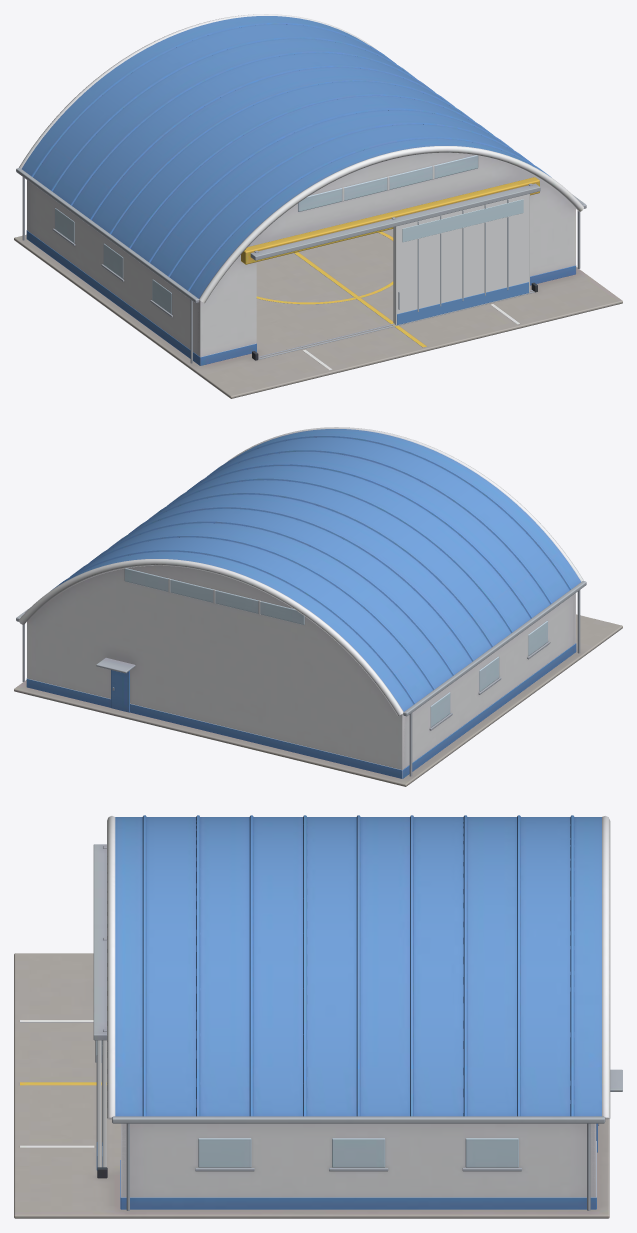
File: airfield_hangar.glb
3 renders of one model, top to bottom at view 1: azimuth 30°, elevation 25°; view 2: azimuth 150°, elevation 25°; view 3: azimuth 270°, elevation 25°, orthographic. The views are drawn at different scales.
Visible parts, largest first — view 1: hangar_body, hangar_door_outer; view 2: hangar_body; view 3: hangar_body, hangar_door_outer, hangar_door_inner.
Part boxes in pixels (bbox=[...]): hangar_body: bbox=[14, 14, 622, 398]; hangar_door_outer: bbox=[394, 194, 529, 325]; hangar_body: bbox=[14, 427, 622, 786]; hangar_body: bbox=[14, 815, 622, 1218]; hangar_door_outer: bbox=[95, 1040, 101, 1170]; hangar_door_inner: bbox=[101, 1040, 106, 1167].
Bounding box in the file's own units: 20.9 × 8.81 × 20.5.
10 materials, 1 textured.
